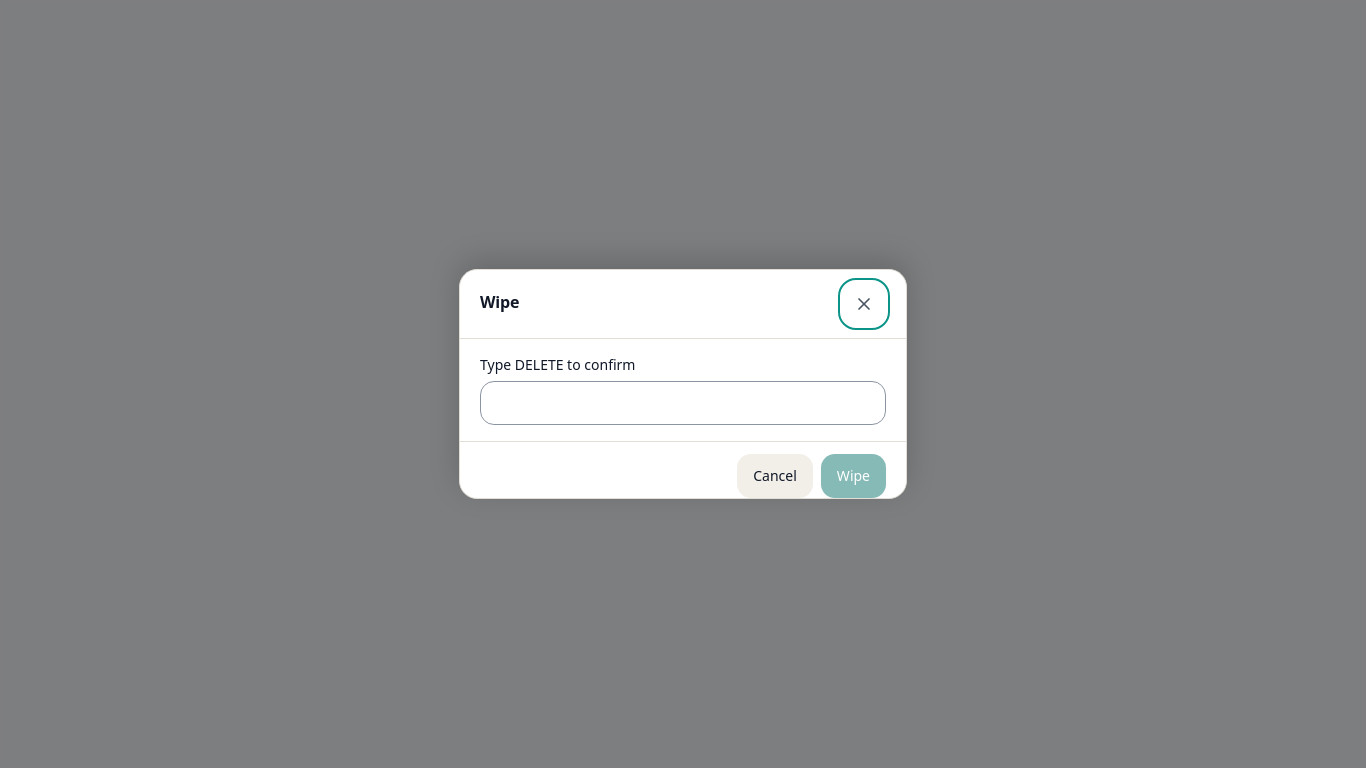
Test: ConfirmDialog › requires the typed text and shows a failure without closing
Expected: the button "Wipe" is disabled, left=821, top=454, right=886, bottom=498
Step 1. Type "DELETE" into the field labelled "Type DELETE to confirm" → (683, 403), box left=480, top=381, right=886, bottom=425
Then press Enter
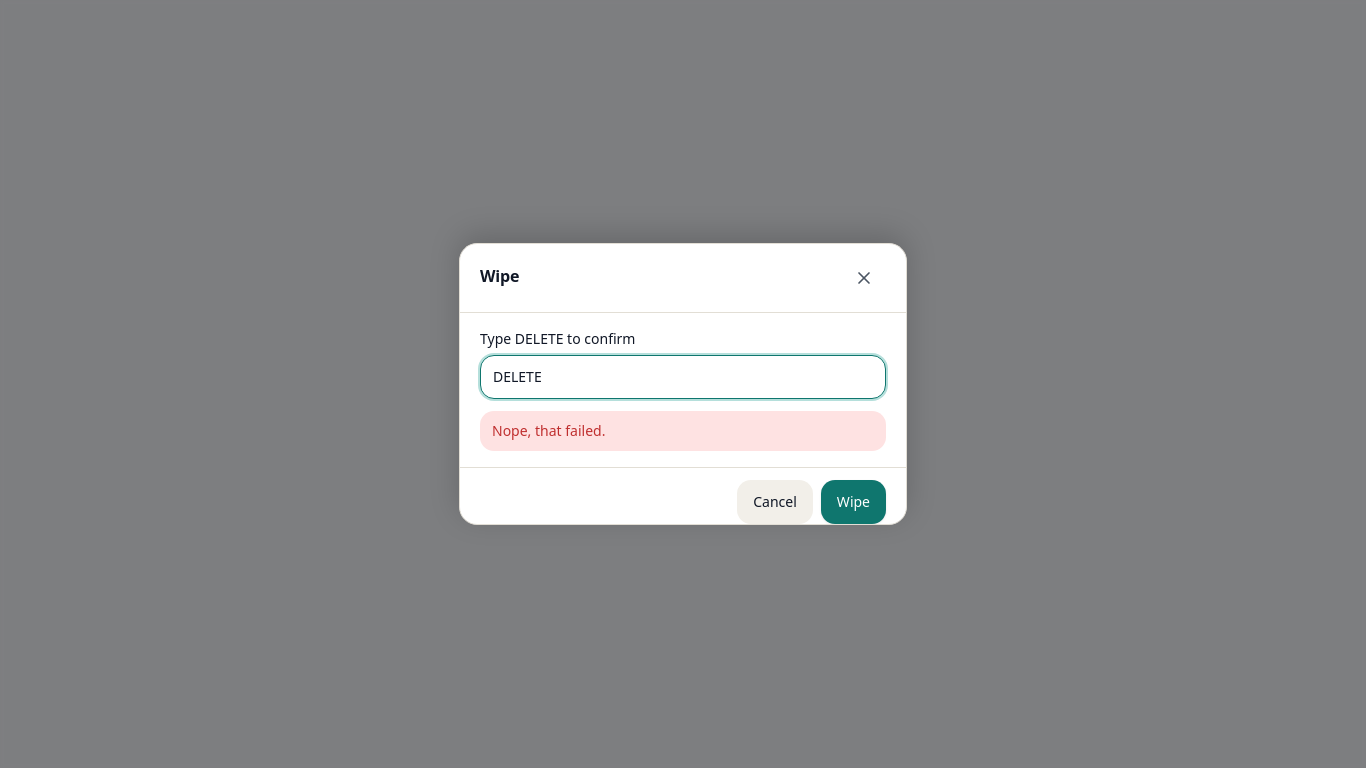
Expected: the text "Nope, that failed." is shown, left=492, top=421, right=605, bottom=441
